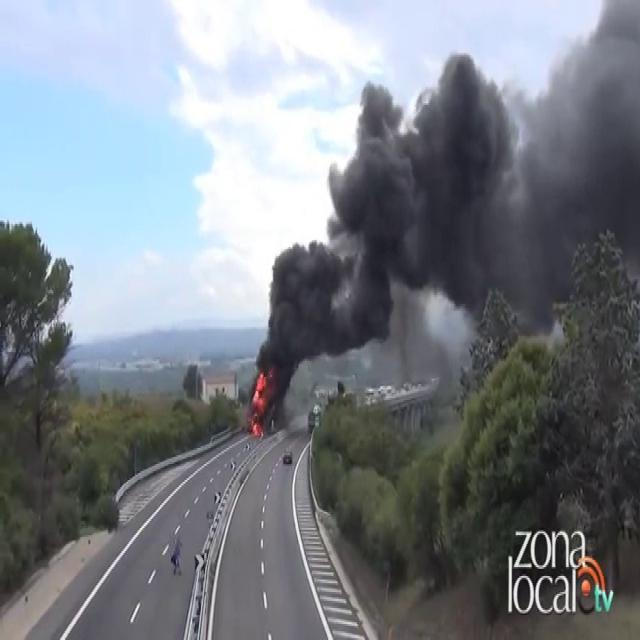Fire: (250, 364, 268, 440)
Smoke: (261, 34, 640, 378)
